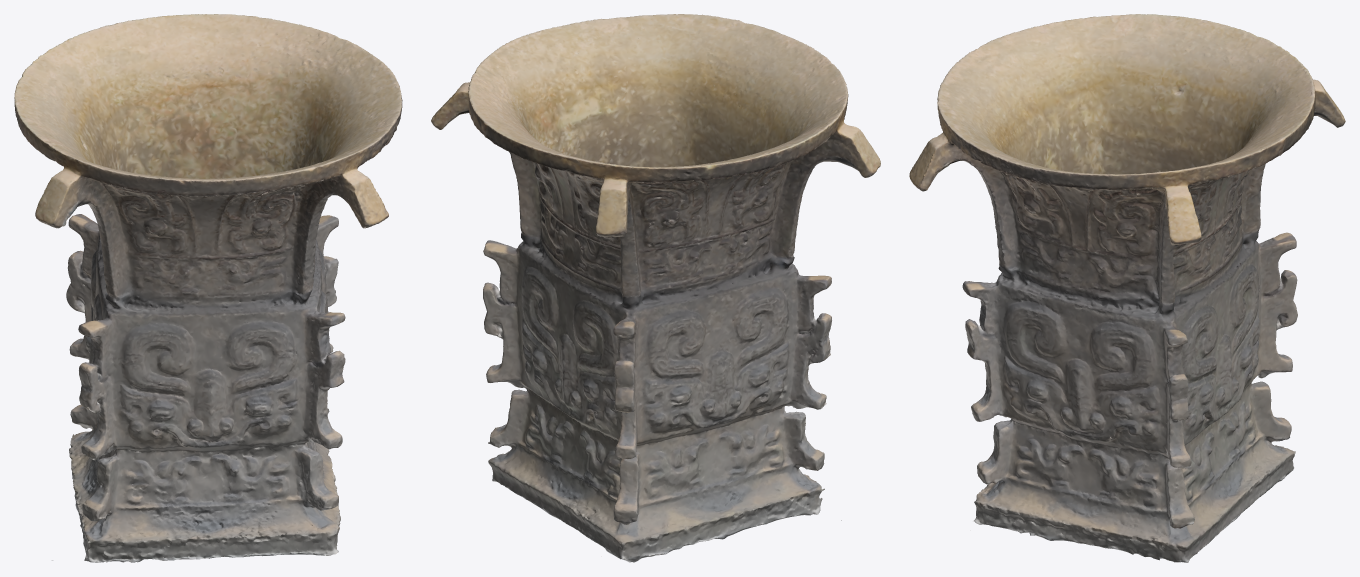
The model's file is cultural relic.glb.
The picture shows the model from 3 angles, left to right: view 1: azimuth 30°, elevation 25°; view 2: azimuth 150°, elevation 25°; view 3: azimuth 270°, elevation 25°; orthographic projection. The views are drawn at different scales.
Visible parts, largest first — view 1: rijifangzunobjcleanermaterialmergergles; view 2: rijifangzunobjcleanermaterialmergergles; view 3: rijifangzunobjcleanermaterialmergergles.
Part boxes in pixels (x1,y1,x2,y2): rijifangzunobjcleanermaterialmergergles: (14,14,402,562); rijifangzunobjcleanermaterialmergergles: (431,14,880,562); rijifangzunobjcleanermaterialmergergles: (909,14,1345,562).
Bounding box in the file's own units: 0.4951 × 0.4993 × 0.4822.
